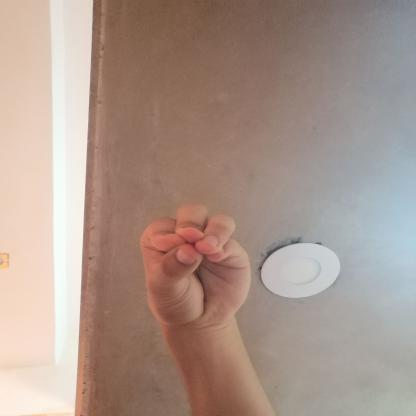HA: (114, 194, 276, 344)
